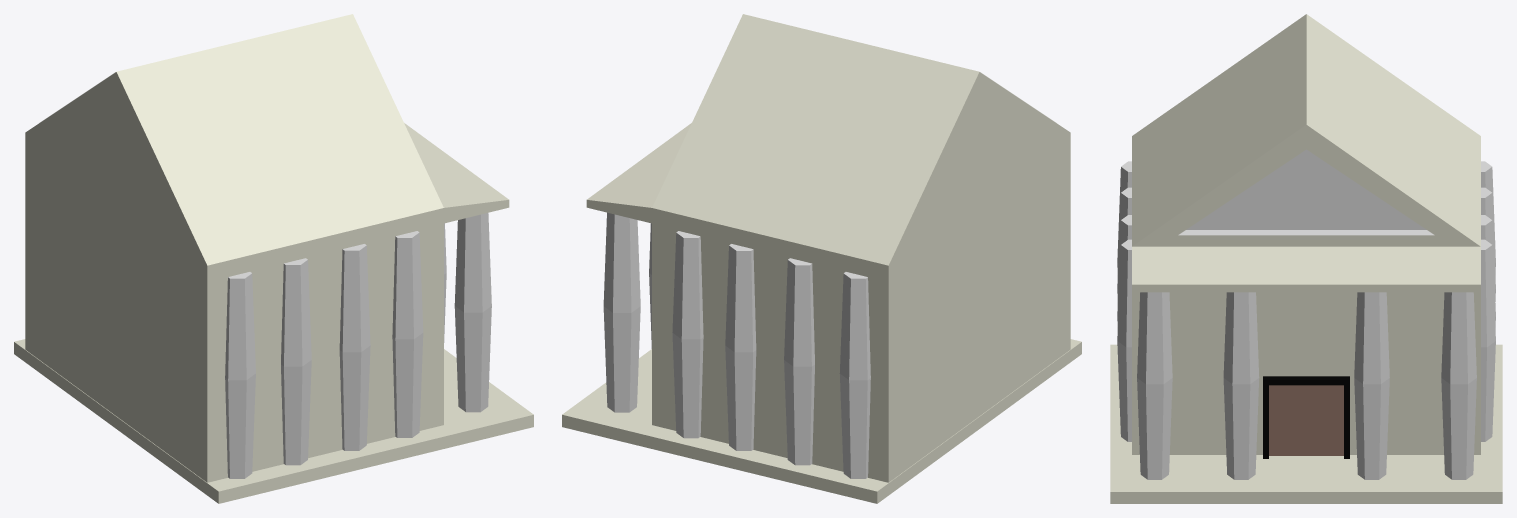
File: GovBuilding.fbx
The picture shows the model from 3 angles, left to right: view 1: azimuth 30°, elevation 25°; view 2: azimuth 150°, elevation 25°; view 3: azimuth 270°, elevation 25°; orthographic projection. The views are drawn at different scales.
Parts seen in each view (by area): view 1: Cube.001; view 2: Cube.001; view 3: Cube.001.
Boxes of the visible parts, x1,y1,x2,y2 form: Cube.001: (14, 14, 533, 503); Cube.001: (562, 14, 1081, 503); Cube.001: (1110, 14, 1502, 503).
Bounding box in the file's own units: 800 × 867 × 900.
